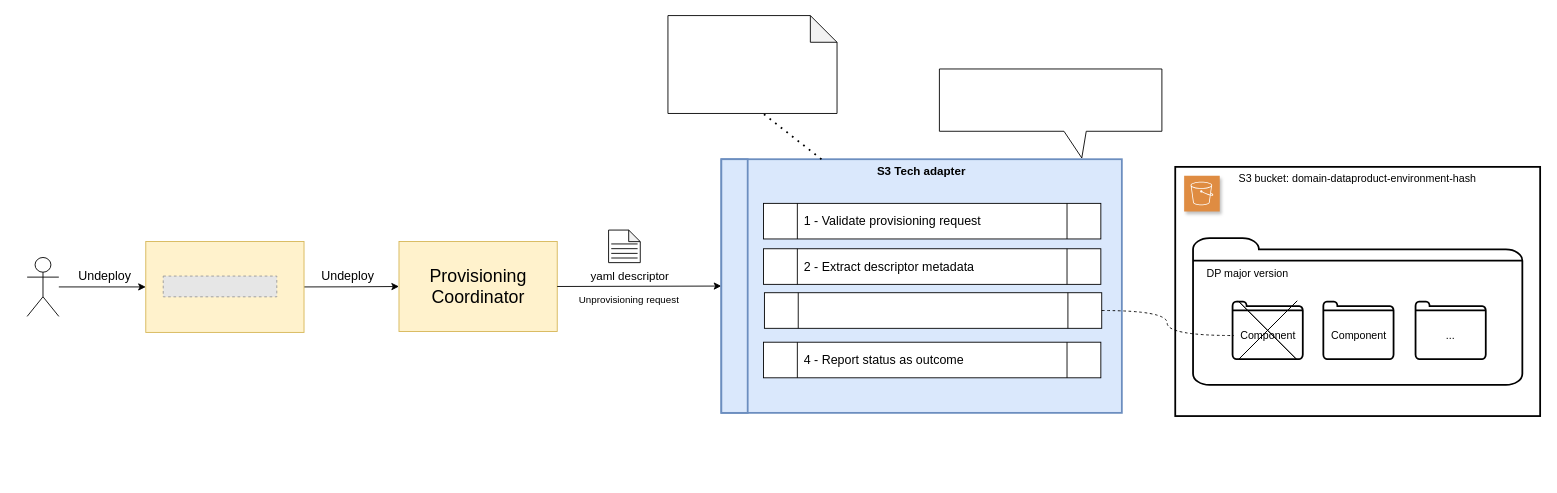
Some shapes in this 1557 by 493 pixel diagram are drawn without their labels. Grey dashed boxes stand in for pictures. Here are the shapes that lost their labels. From the top down, the centre of each, then its label:
pixel 752 64: Required technical user with s3:DeleteObject permissions to delete the resource
pixel 1050 113: Idempotent, i.e. does not fail if something it provisions already exists
pixel 42 286: DP team
pixel 734 285: A P I
pixel 933 310: 3 - Remove component folder in s3 bucket
